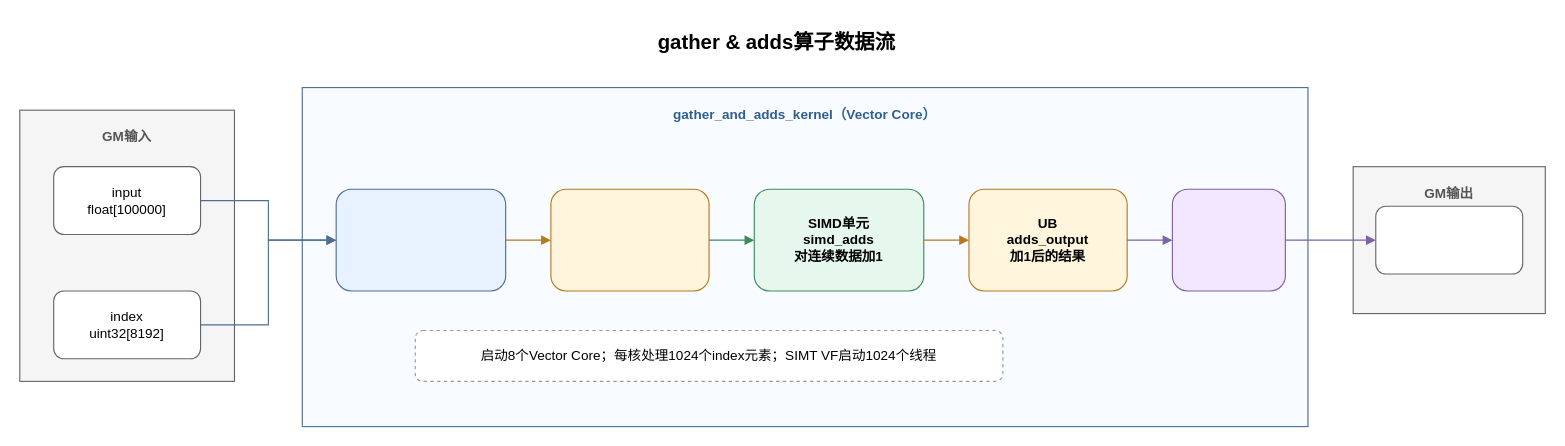
Some shapes in this 1565 by 446 pixel diagram are drawn without their labels. The shapes that lost their labels are listed below. From the top down, each one's centre as x and y in pixels, then its label:
At (x=420, y=239): "SIMT单元 simt_gather 按index离散读取input".
At (x=629, y=239): "UB gather_output 连续中间结果".
At (x=1228, y=239): "DataCopy UB到GM".
At (x=1449, y=239): "output float[8192]".
